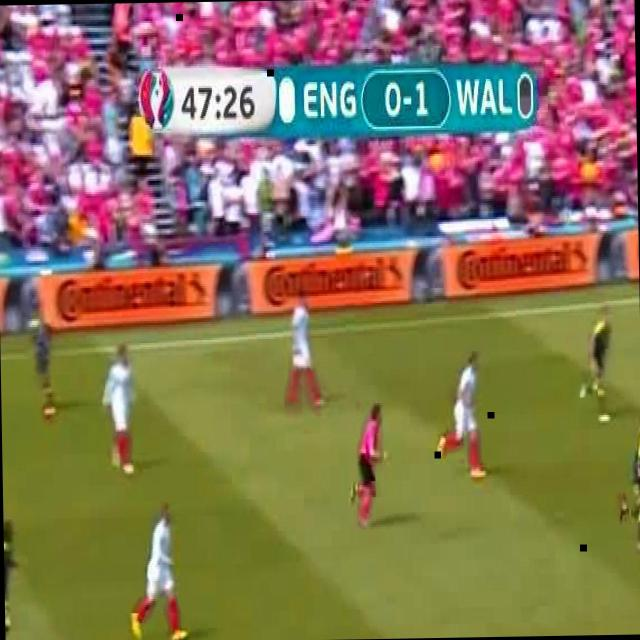player-white: (129, 505, 189, 640), (436, 351, 488, 479), (346, 402, 392, 528), (282, 290, 325, 408), (102, 347, 136, 477), (578, 308, 615, 424), (30, 303, 57, 419), (617, 416, 640, 550), (3, 519, 20, 640)
